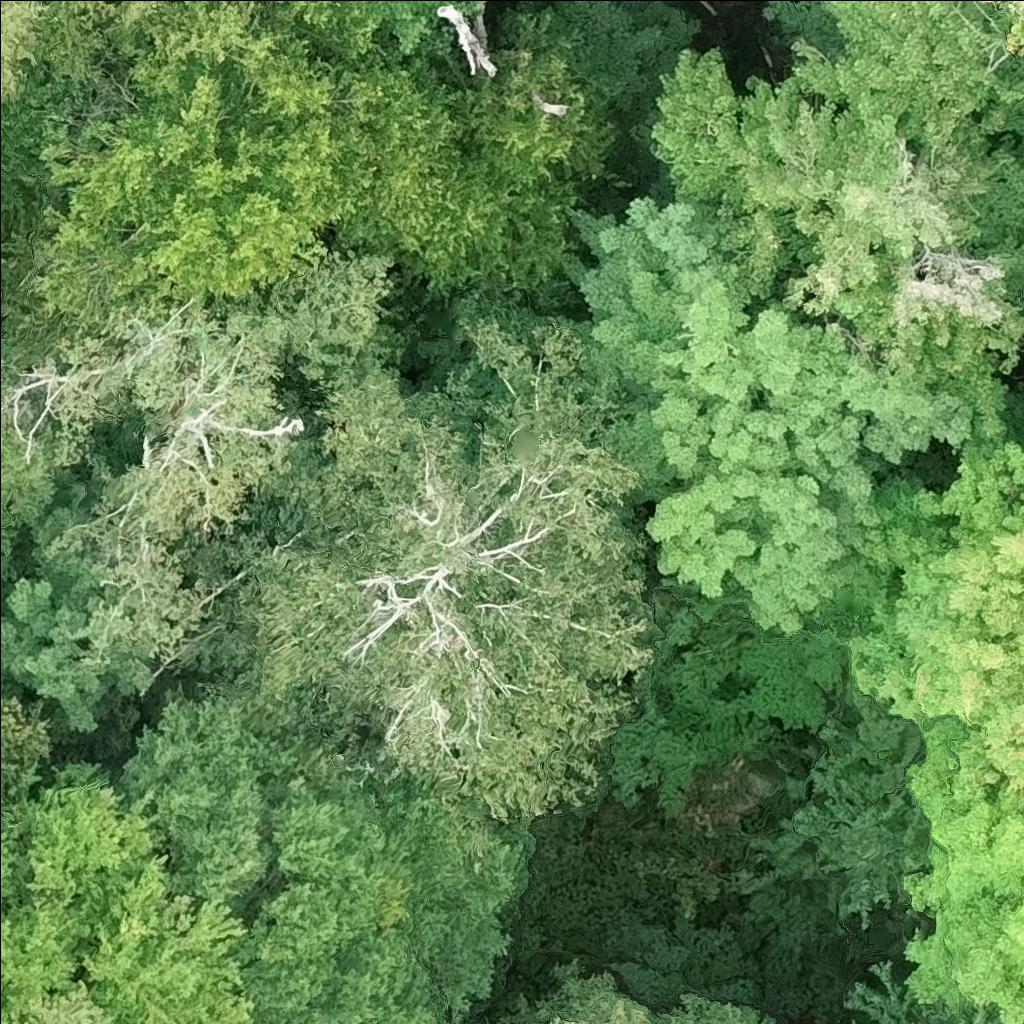crown: (199, 283, 655, 830), (553, 194, 978, 639), (646, 0, 1023, 442), (111, 683, 526, 1023), (32, 0, 381, 327), (42, 290, 298, 665), (337, 48, 617, 306), (0, 761, 257, 1023), (855, 435, 1023, 795), (902, 717, 1023, 1023), (249, 245, 404, 395), (0, 346, 56, 555), (39, 0, 176, 77), (0, 0, 56, 138), (20, 980, 113, 1023), (537, 1002, 650, 1023), (0, 801, 22, 898), (955, 1002, 1001, 1023), (1008, 22, 1023, 59)
